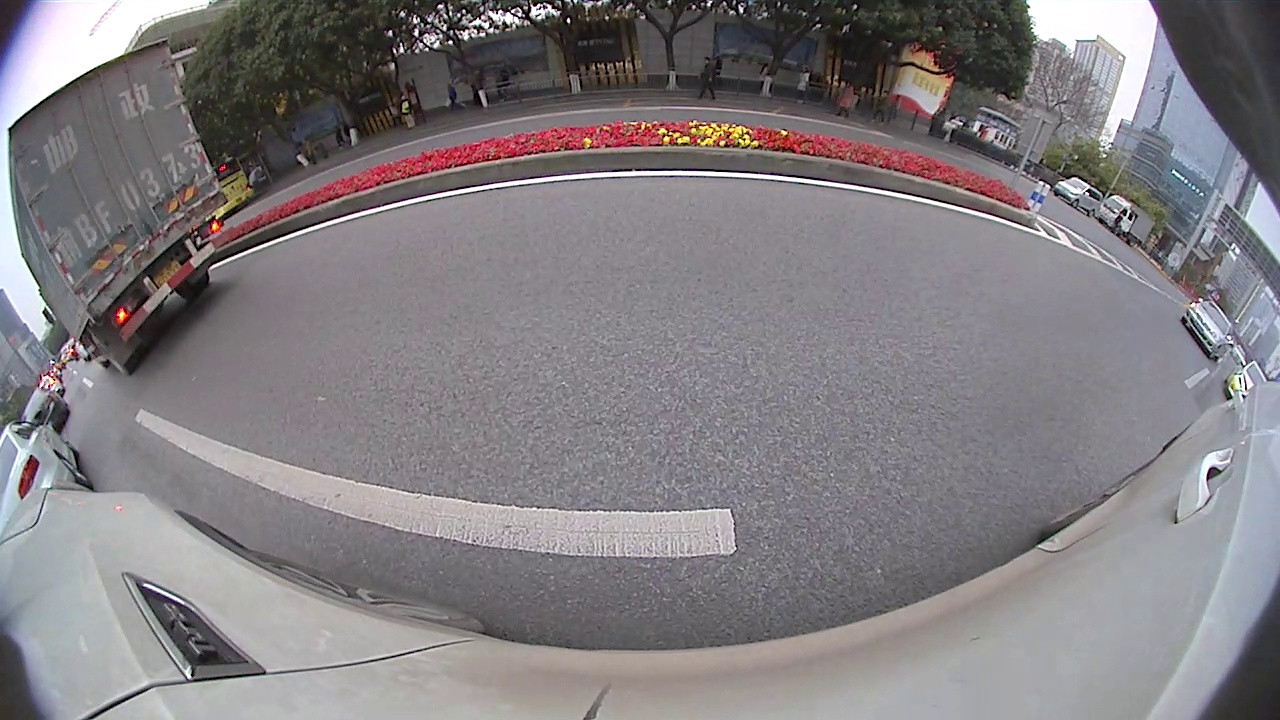car: (256, 1, 862, 283), (928, 141, 1045, 247), (60, 219, 155, 314), (1161, 345, 1243, 451), (1127, 294, 1180, 355), (39, 278, 75, 324)
front: (720, 194, 818, 282), (1022, 226, 1043, 248)
rear: (316, 198, 395, 280), (973, 201, 997, 229)
